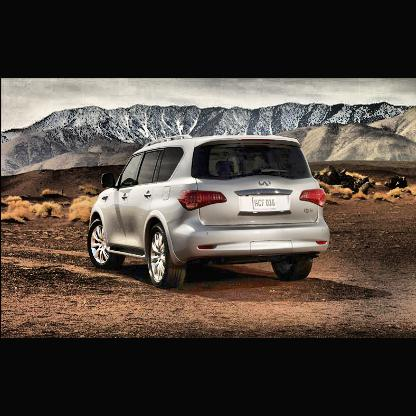Infiniti QX56 SUV 2011: (87, 134, 334, 291)
